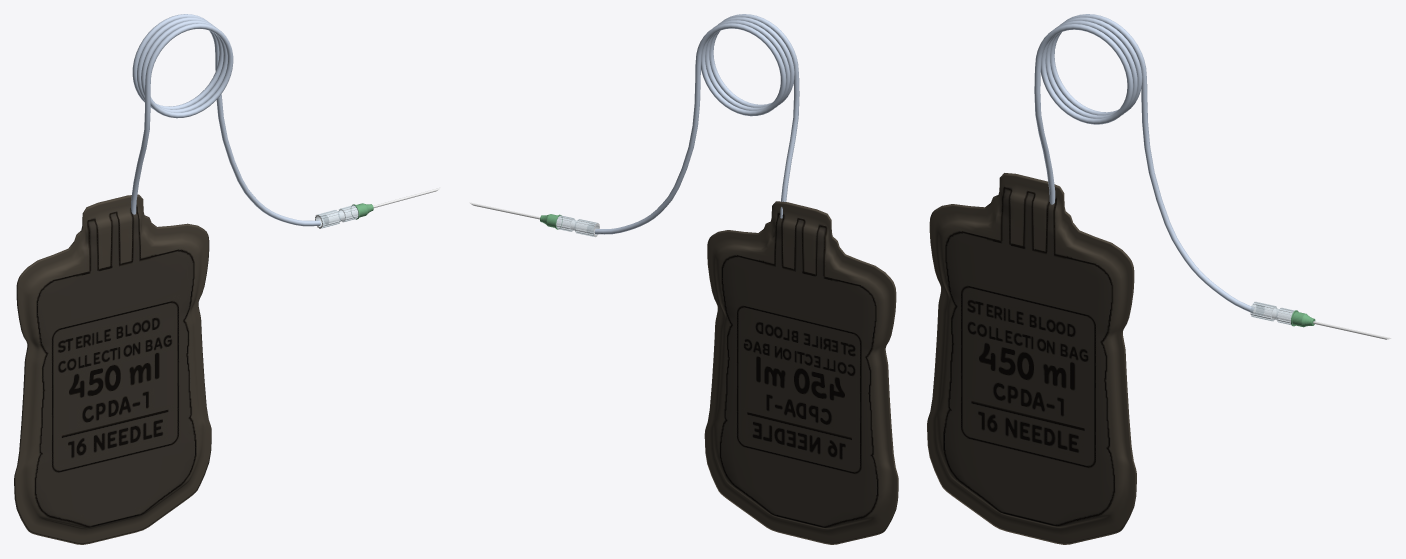
Rendered from blood bag.glb.
3 renders of one model, left to right at view 1: azimuth 30°, elevation 25°; view 2: azimuth 150°, elevation 25°; view 3: azimuth 330°, elevation 25°, orthographic. The views are drawn at different scales.
Parts seen in each view (by area): view 1: ObjectBlood bag_V02B, Spring001, Catheter001; view 2: ObjectBlood bag_V02B, Spring001, Catheter001; view 3: ObjectBlood bag_V02B, Spring001, Catheter001.
Part boxes in pixels (x1,y1,x2,y2): ObjectBlood bag_V02B: [14, 194, 211, 544]; Spring001: [131, 14, 320, 226]; Catheter001: [315, 187, 440, 228]; ObjectBlood bag_V02B: [704, 201, 898, 544]; Spring001: [594, 14, 799, 234]; Catheter001: [469, 202, 599, 237]; ObjectBlood bag_V02B: [927, 173, 1136, 544]; Spring001: [1034, 14, 1254, 313]; Catheter001: [1250, 302, 1391, 339].
Bounding box in the file's own units: 0.2522 × 0.2833 × 0.0232.
Materials: 5 (1 with a texture image).
